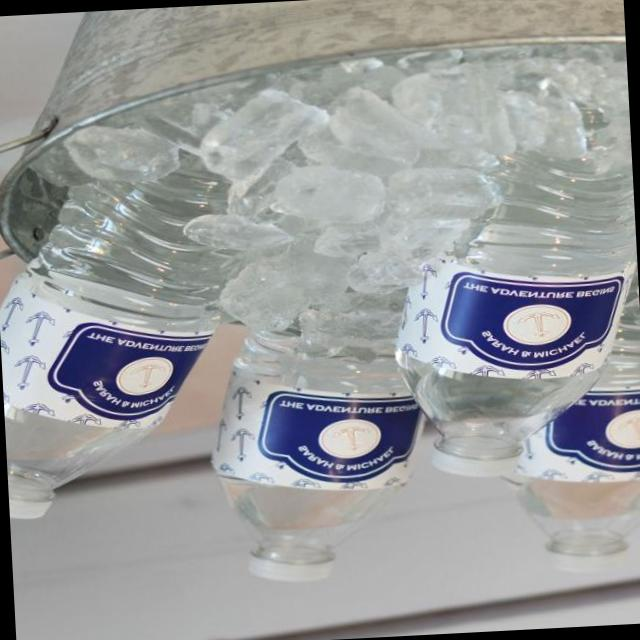plastic_bottle: (0, 109, 249, 520), (386, 154, 640, 481), (206, 316, 437, 584), (488, 277, 640, 574)
